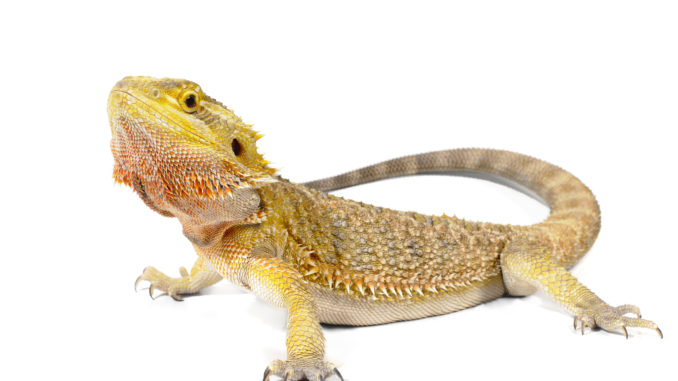bearded: (107, 73, 667, 381)
